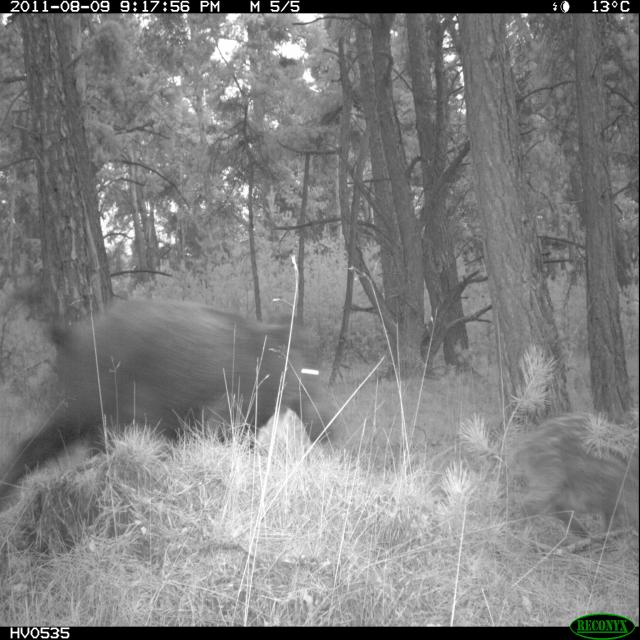boar: (0, 254, 360, 521), (470, 382, 640, 566)
